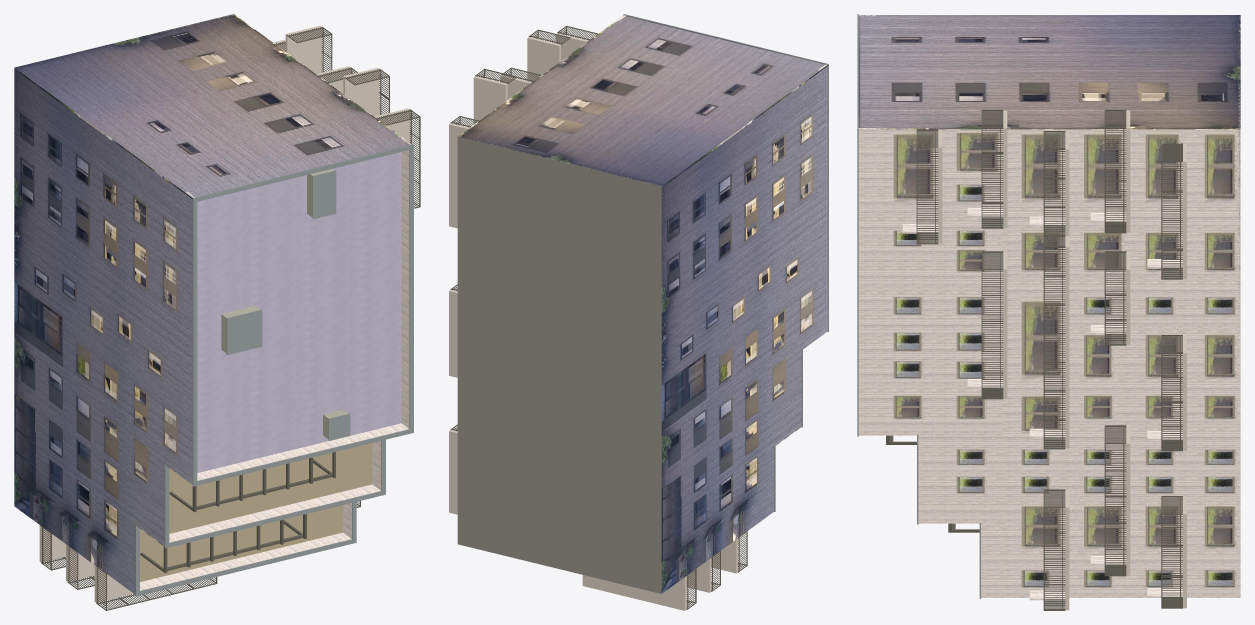
The model's file is husB-v2.glb.
The picture shows the model from 3 angles, left to right: view 1: azimuth 30°, elevation 25°; view 2: azimuth 150°, elevation 25°; view 3: azimuth 270°, elevation 25°; orthographic projection. The views are drawn at different scales.
Visible parts, largest first — view 1: Hus B; view 2: Hus B; view 3: Hus B.
Part boxes in pixels (left/top/right/bottom): Hus B: left=14, top=14, right=420, bottom=610; Hus B: left=449, top=14, right=828, bottom=610; Hus B: left=857, top=14, right=1240, bottom=610.
Bounding box in the file's own units: 15.83 × 29.31 × 19.31.
Materials: 19 (19 with a texture image).
